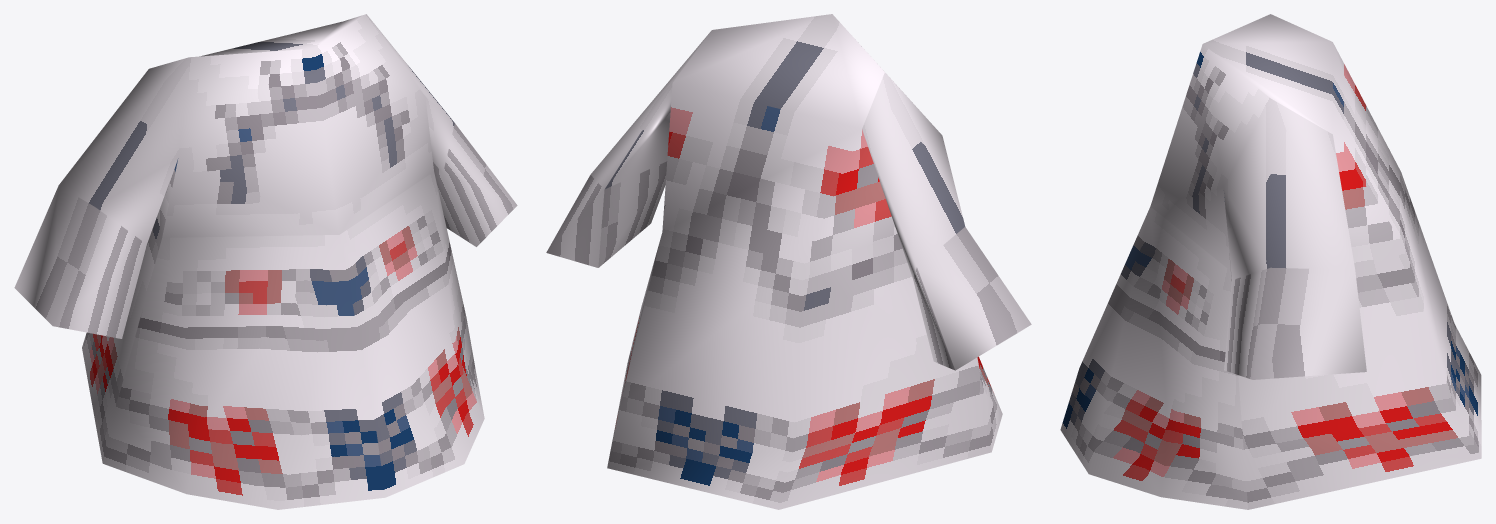
3 views of the same model, side by side, from view 1: azimuth 30°, elevation 25°; view 2: azimuth 150°, elevation 25°; view 3: azimuth 270°, elevation 25° (orthographic). The views are drawn at different scales.
Parts seen in each view (by area): view 1: 2477dress000_r; view 2: 2477dress000_r; view 3: 2477dress000_r.
Boxes of the visible parts, left/top/right/bottom form: 2477dress000_r: left=14, top=14, right=517, bottom=509; 2477dress000_r: left=546, top=14, right=1031, bottom=509; 2477dress000_r: left=1060, top=14, right=1481, bottom=509.
Bounding box in the file's own units: 1.09 × 0.8945 × 0.8848.
Materials: 1 (1 with a texture image).
